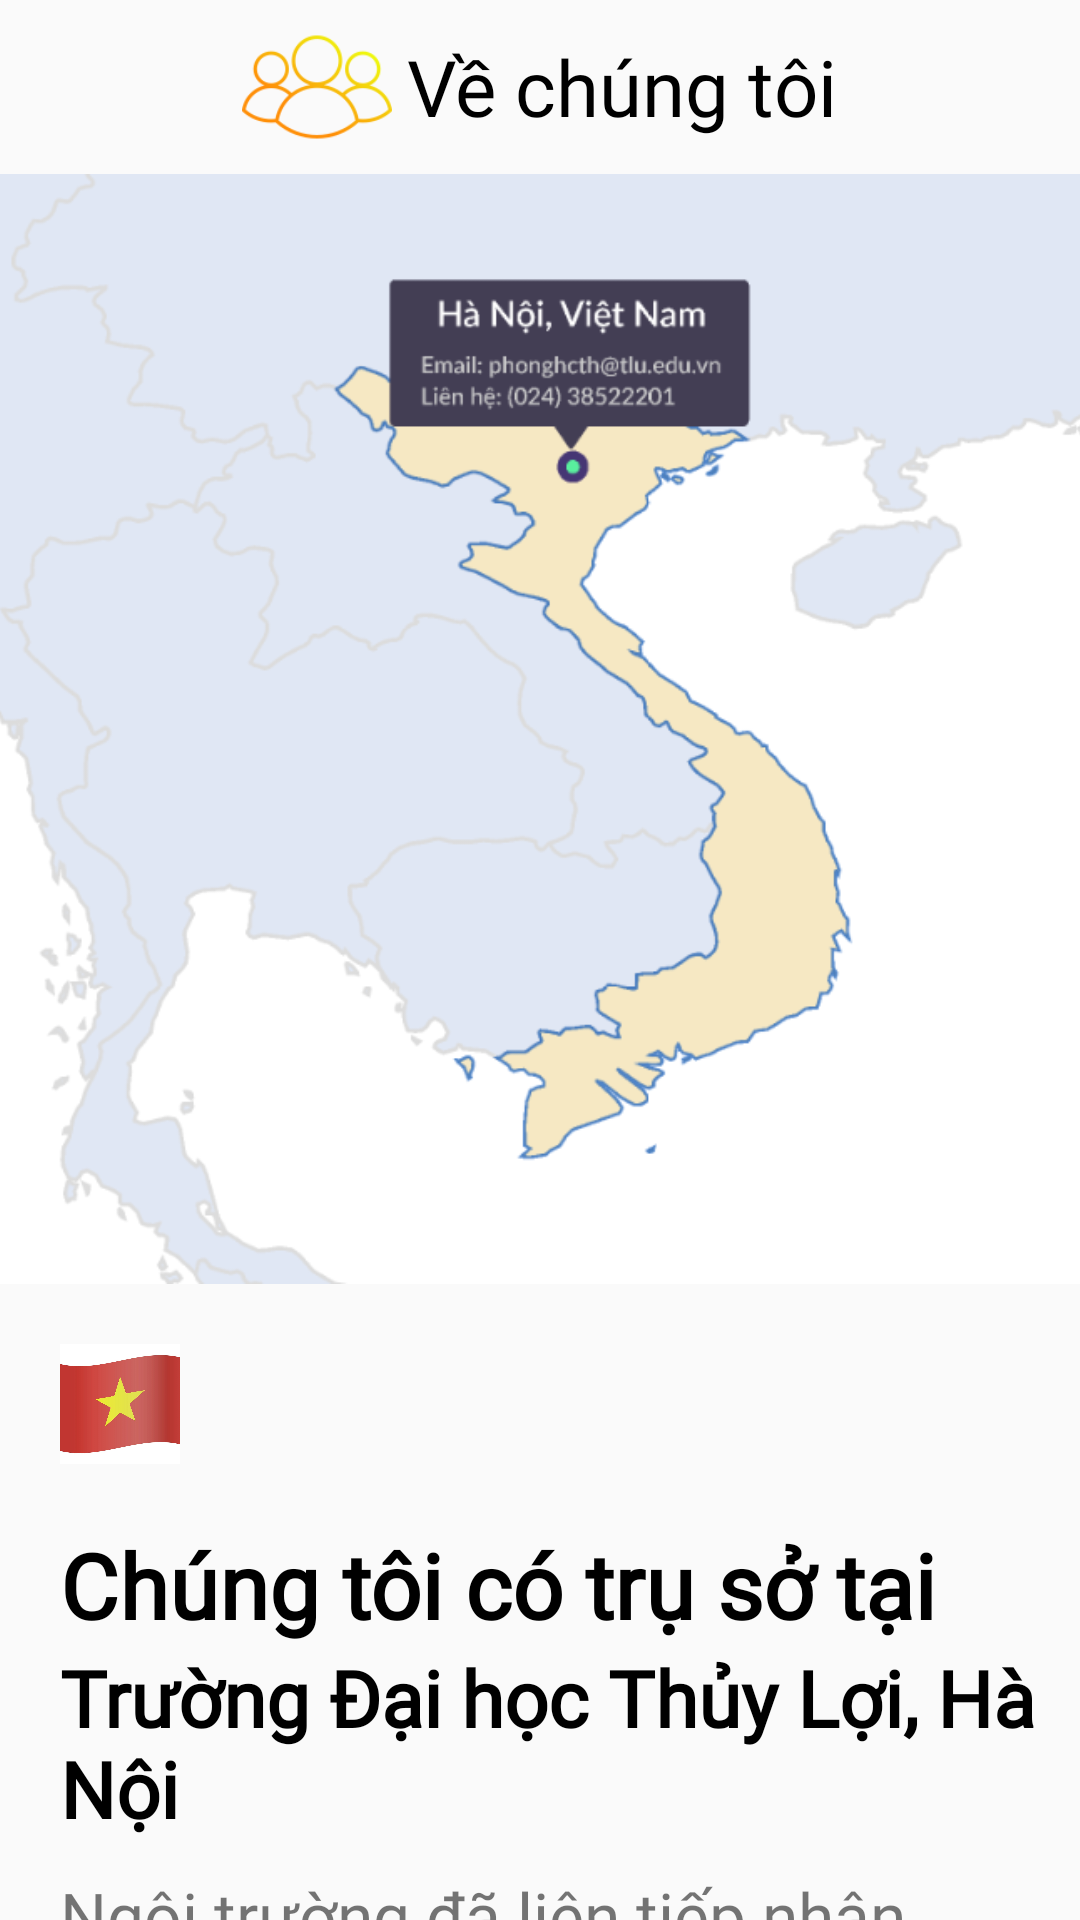

Where to tap for icons on this 1080 x 1920 app screen, as (x,y):
flag: (120,1404)
